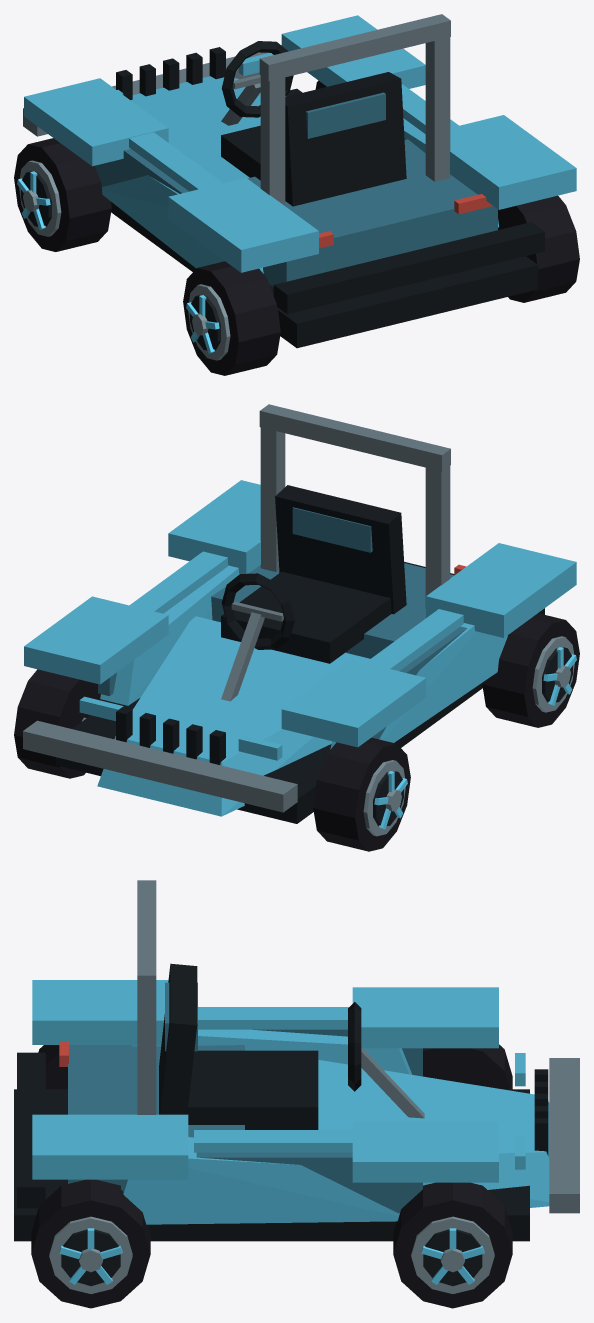
File: kart.glb
3 views of the same model, one above another, from view 1: azimuth 30°, elevation 25°; view 2: azimuth 150°, elevation 25°; view 3: azimuth 270°, elevation 25° (orthographic). The views are drawn at different scales.
Visible parts, largest first — view 1: chassis, wheel-rear-left, wheel-front-left, wheel-rear-right; view 2: chassis, wheel-front-left, wheel-rear-left, wheel-front-right; view 3: chassis, wheel-front-right, wheel-rear-right, wheel-front-left, wheel-rear-left.
Boxes of the visible parts, box(x1,y1,x2,y2) form: chassis: box(23, 14, 576, 348); wheel-rear-left: box(183, 261, 280, 375); wheel-front-left: box(14, 138, 111, 251); wheel-rear-right: box(498, 195, 579, 302); chassis: box(23, 404, 576, 823); wheel-front-left: box(313, 737, 410, 851); wheel-rear-left: box(482, 613, 579, 727); wheel-front-right: box(14, 669, 109, 778); chassis: box(14, 880, 579, 1241); wheel-front-right: box(393, 1182, 512, 1308); wheel-rear-right: box(31, 1179, 150, 1308); wheel-front-left: box(423, 1044, 512, 1089); wheel-rear-left: box(38, 1045, 67, 1089).
Size of the model in its own units: 2.36 by 1.67 by 2.94.
